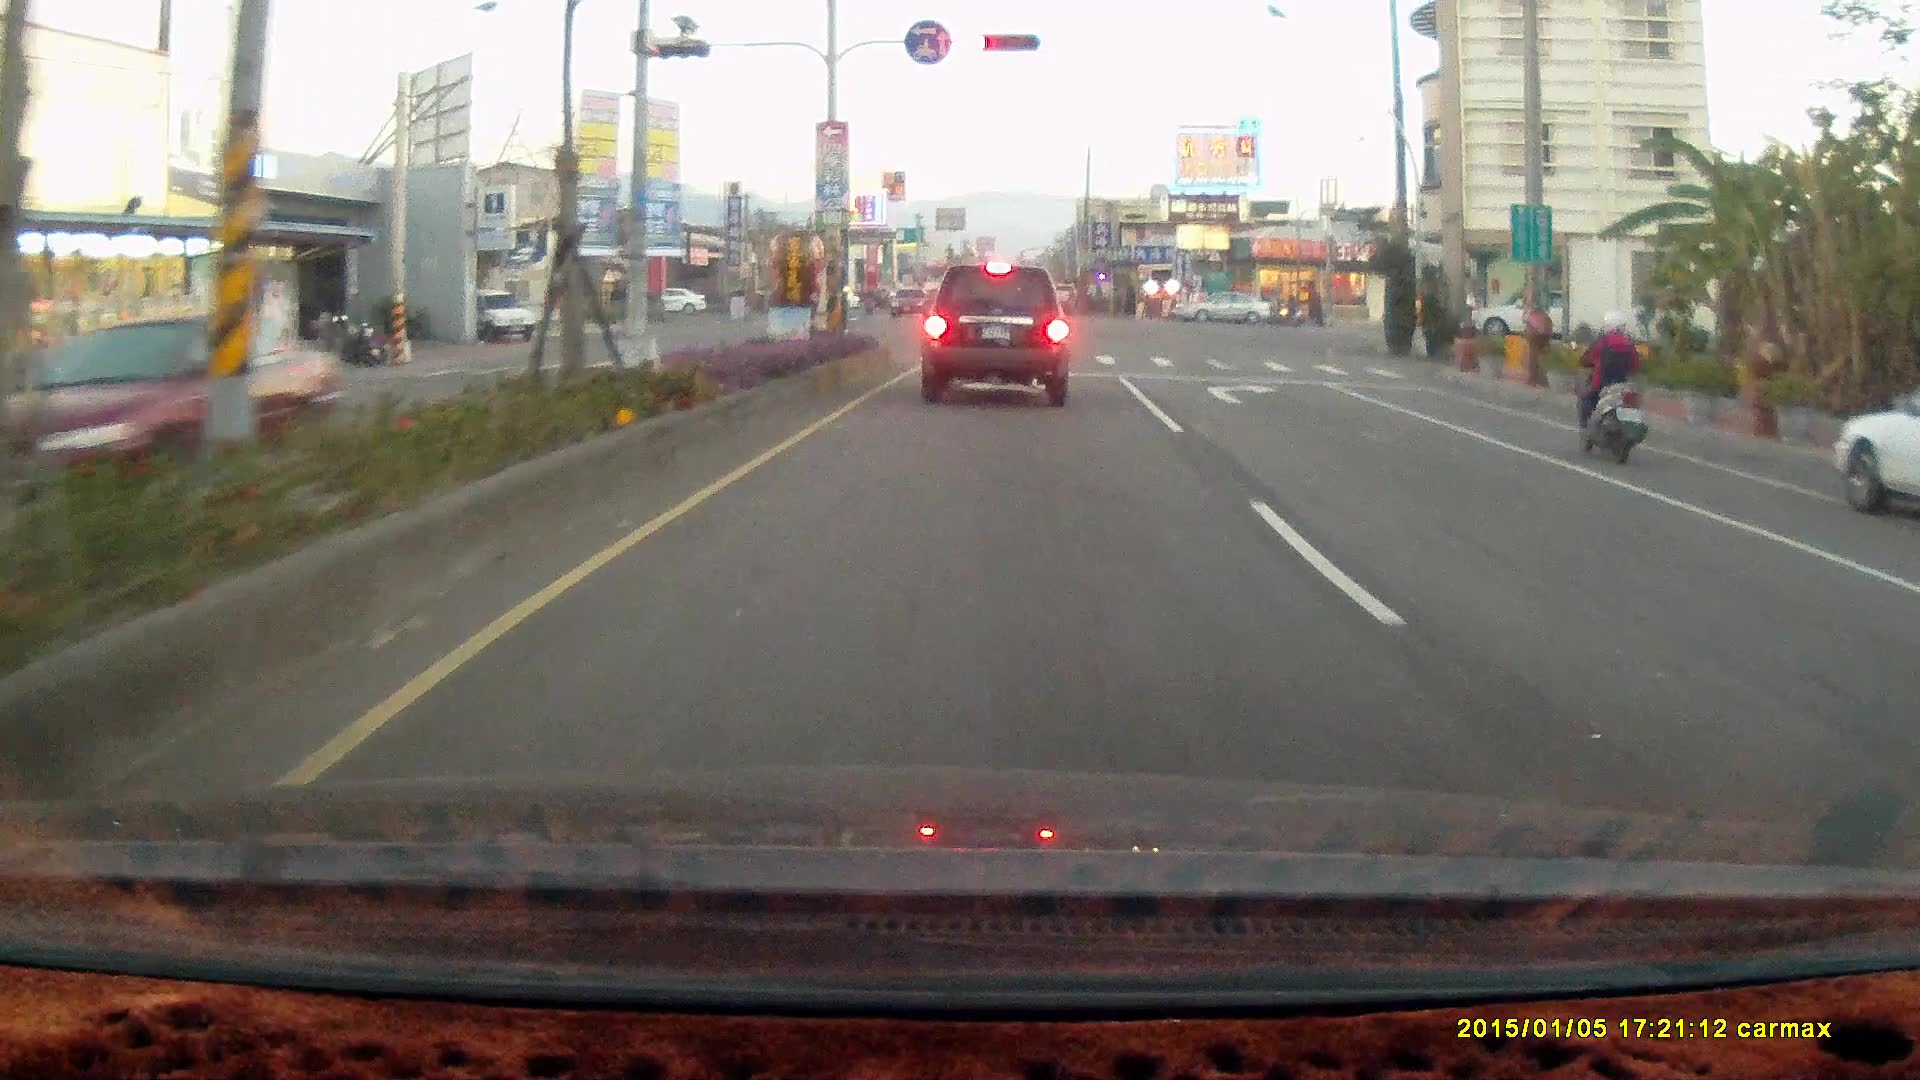rider: (1565, 307, 1647, 464), (1273, 290, 1306, 325)
vehicle: (919, 263, 1069, 407), (1832, 361, 1920, 523), (1832, 385, 1919, 523), (1896, 493, 1920, 836), (1468, 285, 1588, 344), (1883, 528, 1920, 690), (464, 288, 538, 346), (1170, 290, 1275, 328), (1169, 289, 1273, 323)
